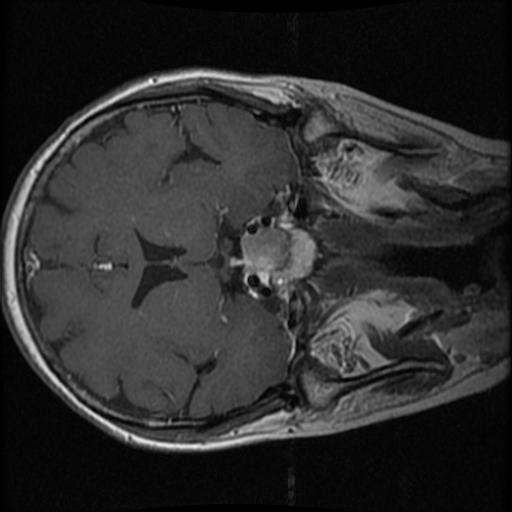pituitary tumour: (240, 226, 292, 273)
